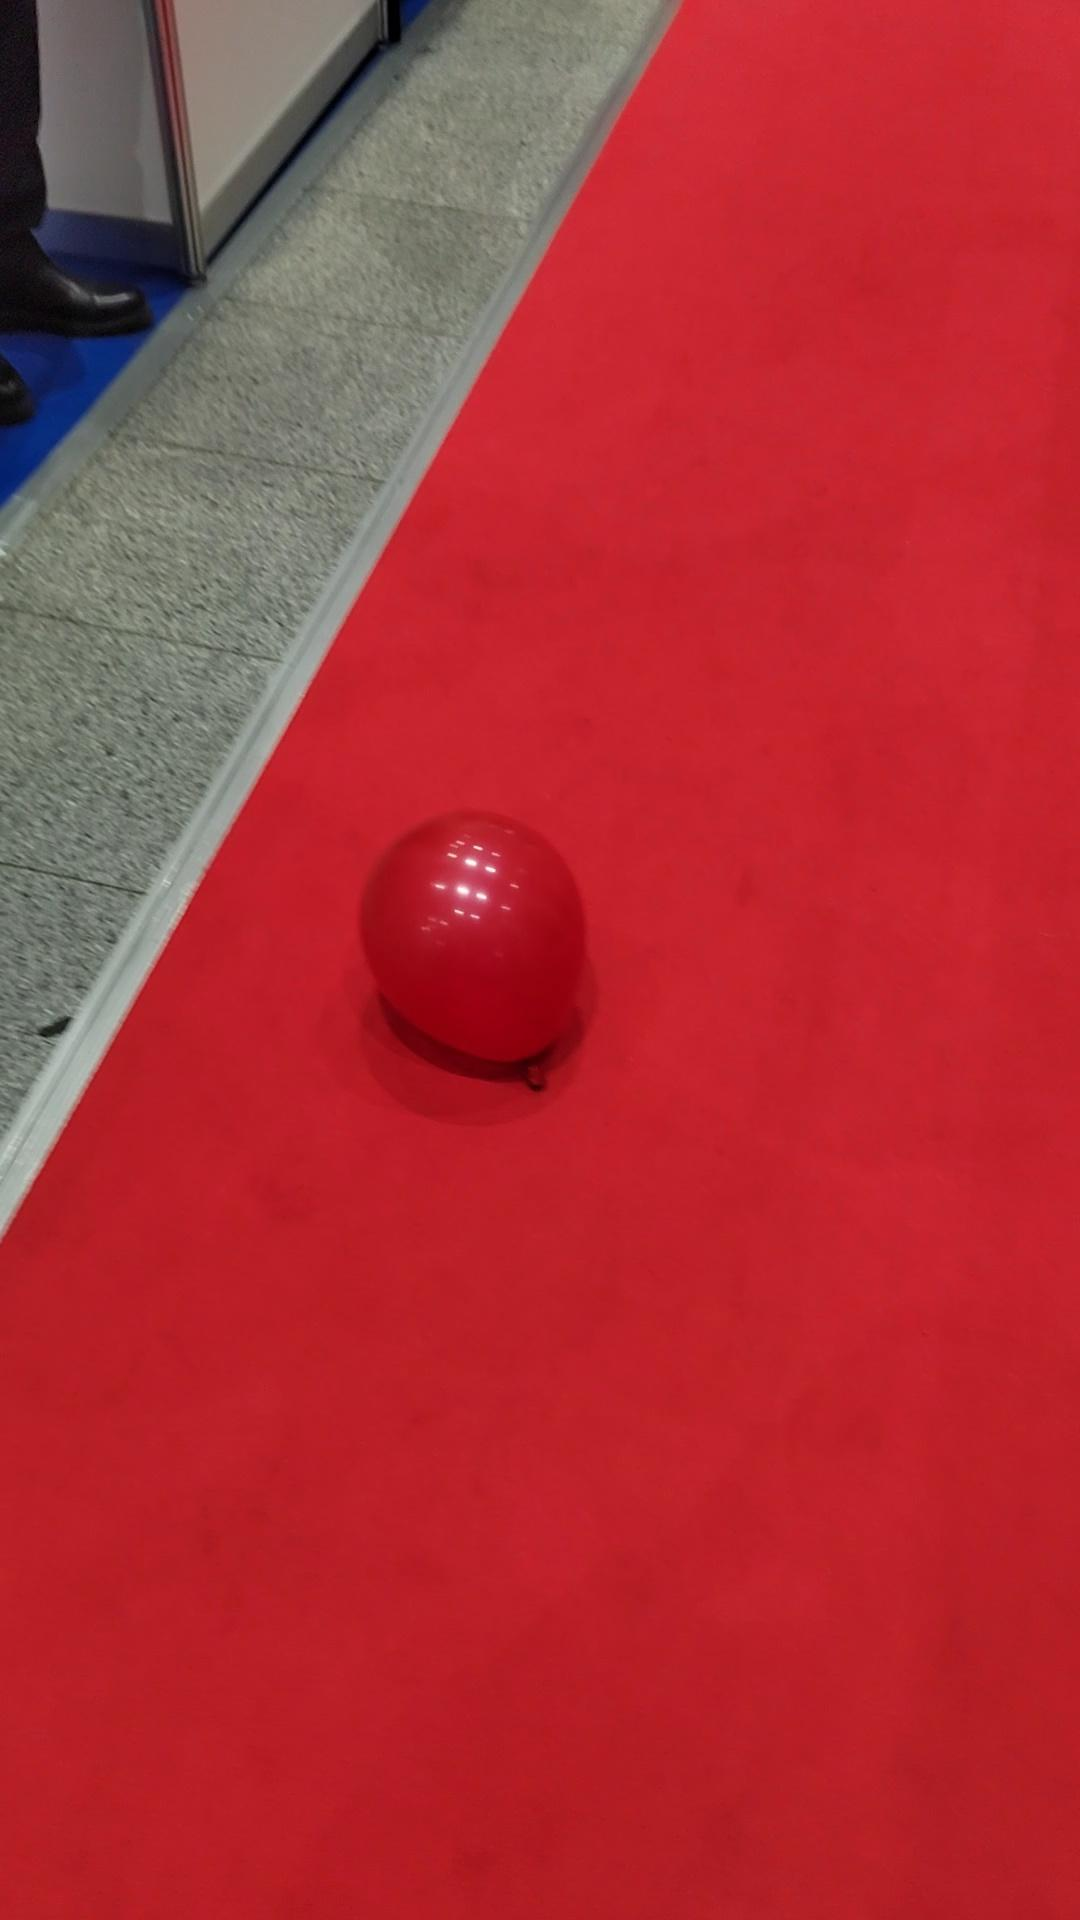red: (359, 811, 589, 1072)
